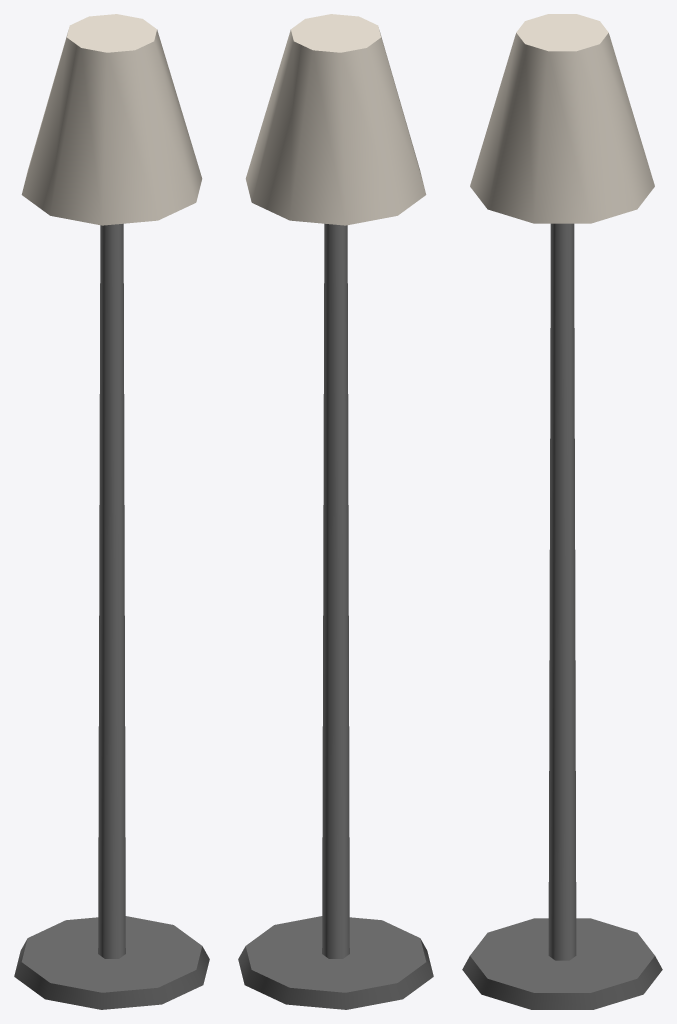
File: floor-lamp.glb
3 views of the same model, side by side, from view 1: azimuth 30°, elevation 25°; view 2: azimuth 150°, elevation 25°; view 3: azimuth 270°, elevation 25° (orthographic).
Visible parts, largest first — view 1: shade, pole, base; view 2: shade, pole, base; view 3: shade, pole, base.
Boxes of the visible parts, x1,y1,x2,y2 form: shade: (21,14,202,225); pole: (98,223,125,958); base: (14,916,209,1009); shade: (245,14,426,225); pole: (322,223,349,958); base: (238,916,433,1009); shade: (470,14,654,223); pole: (548,223,576,960); base: (462,918,662,1009).
Bounding box in the file's own units: 0.2473 × 1.34 × 0.26.
